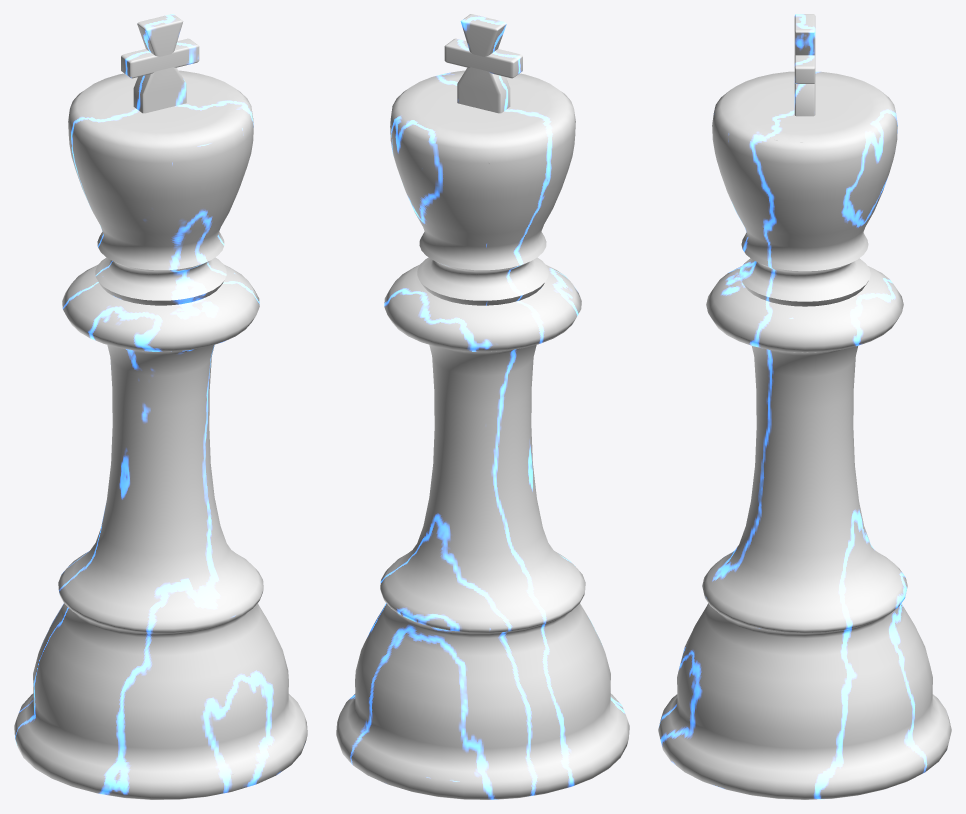
File: WhiteKing.glb
3 renders of one model, left to right at view 1: azimuth 30°, elevation 25°; view 2: azimuth 150°, elevation 25°; view 3: azimuth 270°, elevation 25°, orthographic.
Parts seen in each view (by area): view 1: King.001; view 2: King.001; view 3: King.001.
Boxes of the visible parts, x1,y1,x2,y2 form: King.001: (14,14,307,799); King.001: (336,14,629,799); King.001: (658,14,951,799).
Size of the model in its own units: 0.2165 by 0.5856 by 0.2165.
Materials: 1 (1 with a texture image).
